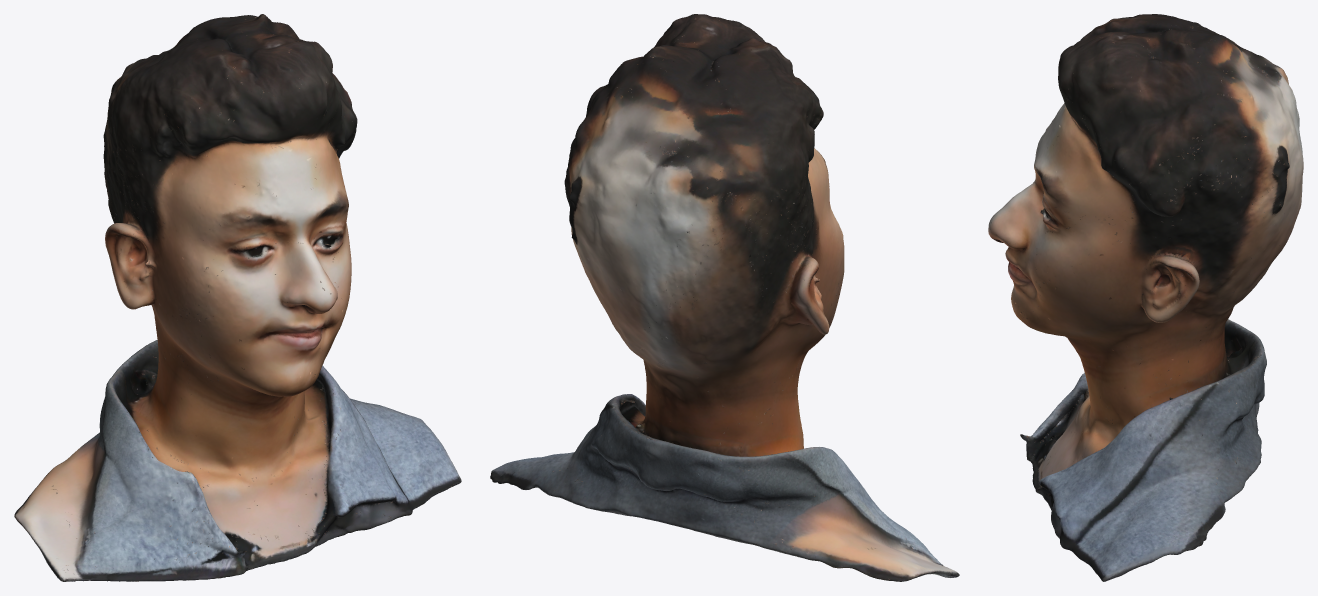
The model's file is avatar2_draco.glb.
3 renders of one model, left to right at view 1: azimuth 30°, elevation 25°; view 2: azimuth 150°, elevation 25°; view 3: azimuth 270°, elevation 25°, orthographic. The views are drawn at different scales.
Bounding box in the file's own units: 1.78 × 2 × 1.23.
Materials: 1 (1 with a texture image).
